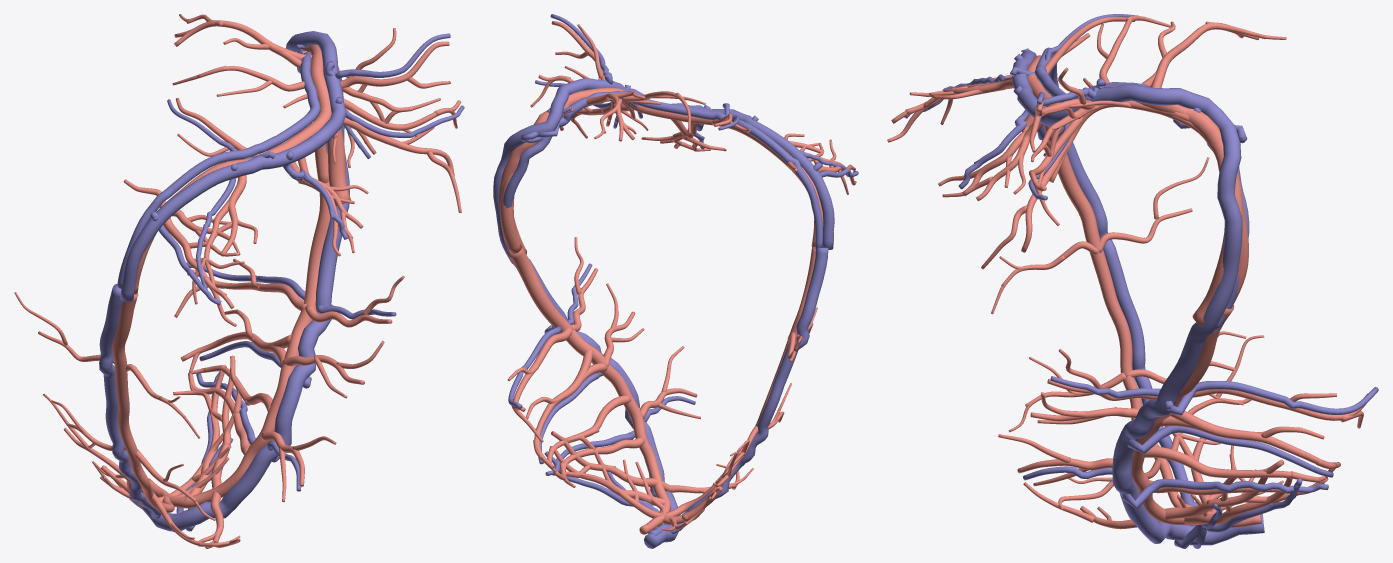
File: vessels_46.glb
3 renders of one model, left to right at view 1: azimuth 30°, elevation 25°; view 2: azimuth 150°, elevation 25°; view 3: azimuth 270°, elevation 25°, orthographic. The views are drawn at different scales.
Parts seen in each view (by area): view 1: Renderer Node; view 2: Renderer Node; view 3: Renderer Node.
Part boxes in pixels (x1=…): Renderer Node: x1=14, y1=14, x2=464, y2=548; Renderer Node: x1=493, y1=14, x2=858, y2=548; Renderer Node: x1=887, y1=14, x2=1378, y2=548.
Size of the model in its own units: 94.8 by 122 by 95.35.
